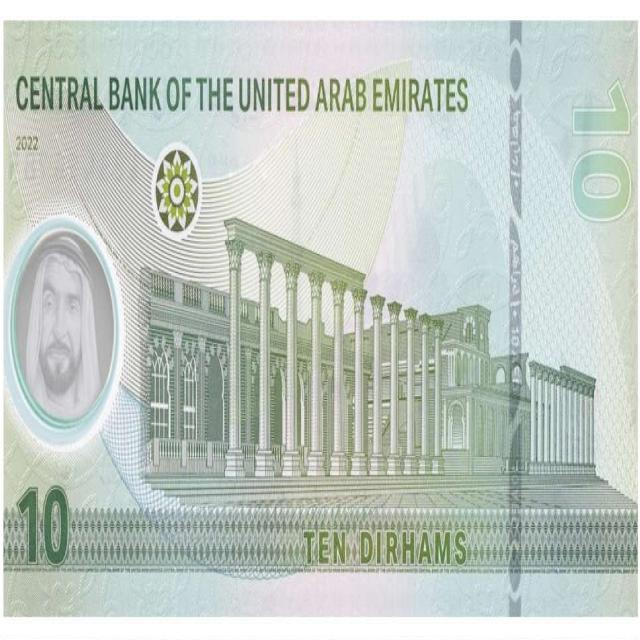10_AED: (1, 19, 637, 612)
